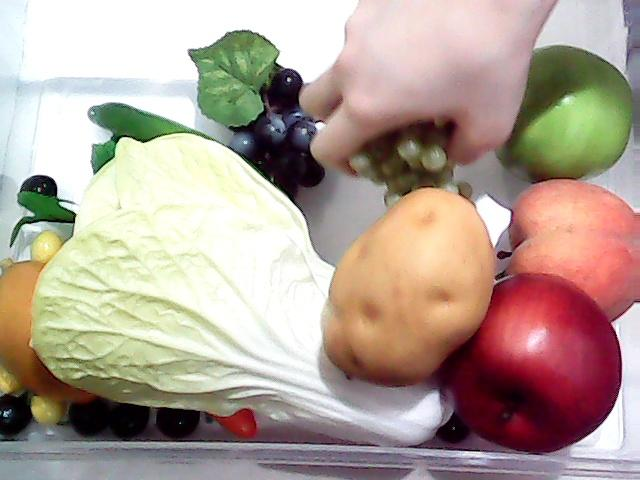apple: (430, 271, 622, 457), (498, 36, 634, 188)
carrot: (206, 401, 262, 439)
grape: (214, 60, 328, 200), (346, 110, 472, 209)
lemon: (0, 252, 106, 408)
napa cabbage: (21, 117, 475, 444)
peach: (496, 178, 640, 328)
pepper: (74, 94, 300, 218)
potato: (322, 188, 496, 388)
